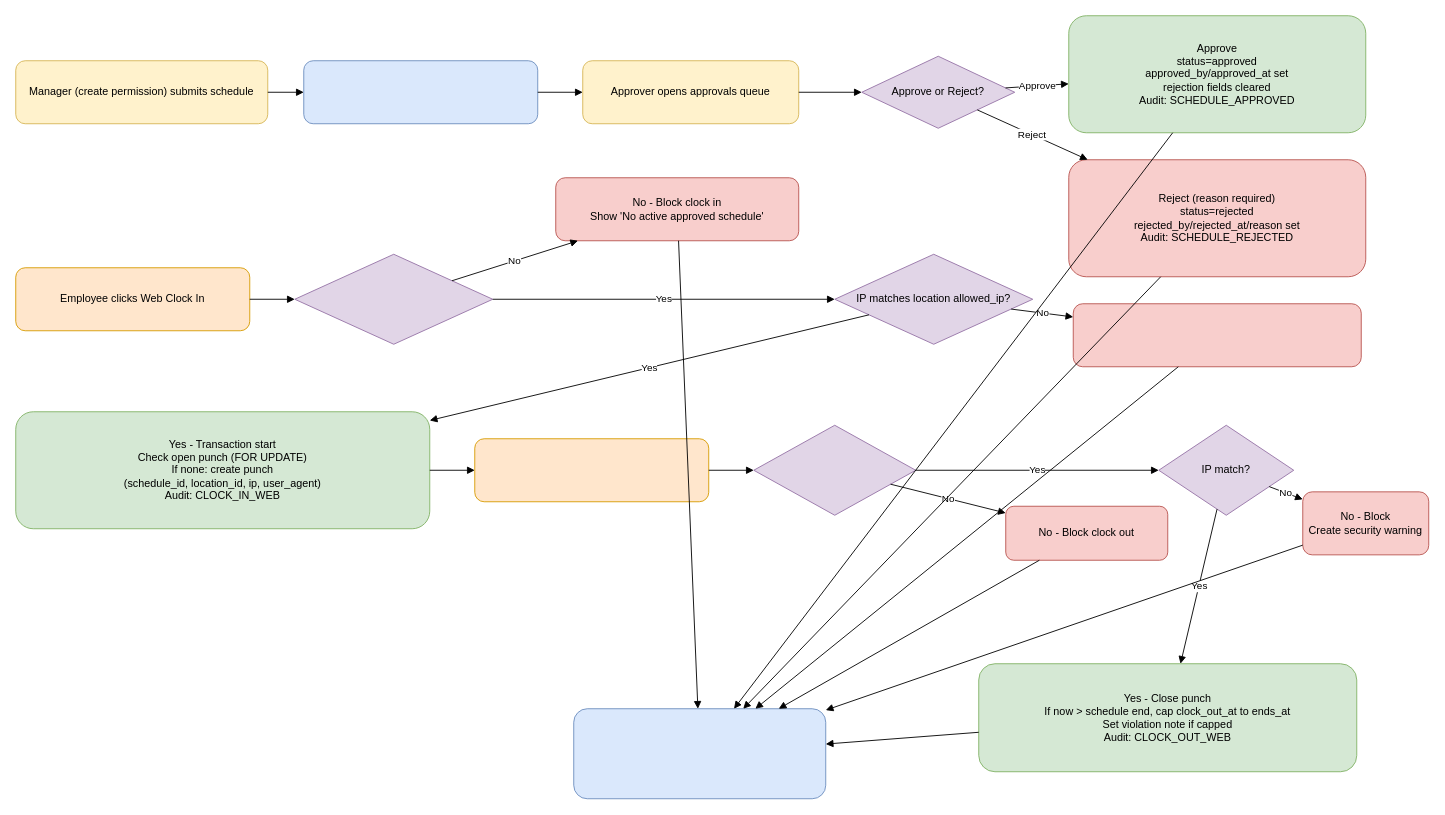
Image size: 1445x815. Some labels were removed from this diagram. Each missing label, with the box of its shape:
Employee clicks Web Clock Out: (474, 438, 709, 502)
Has approved schedule for now? (starts_at <= now <= ends_at): (294, 253, 493, 344)
Has open punch?: (753, 424, 916, 515)
No - Block clock in Create security warning CLOCK_IP_MISMATCH: (1072, 303, 1361, 367)
Outputs - Punches - Audit logs - Security warnings: (573, 708, 826, 799)
Status = submitted Audit: SCHEDULE_SUBMITTED: (303, 60, 538, 124)
